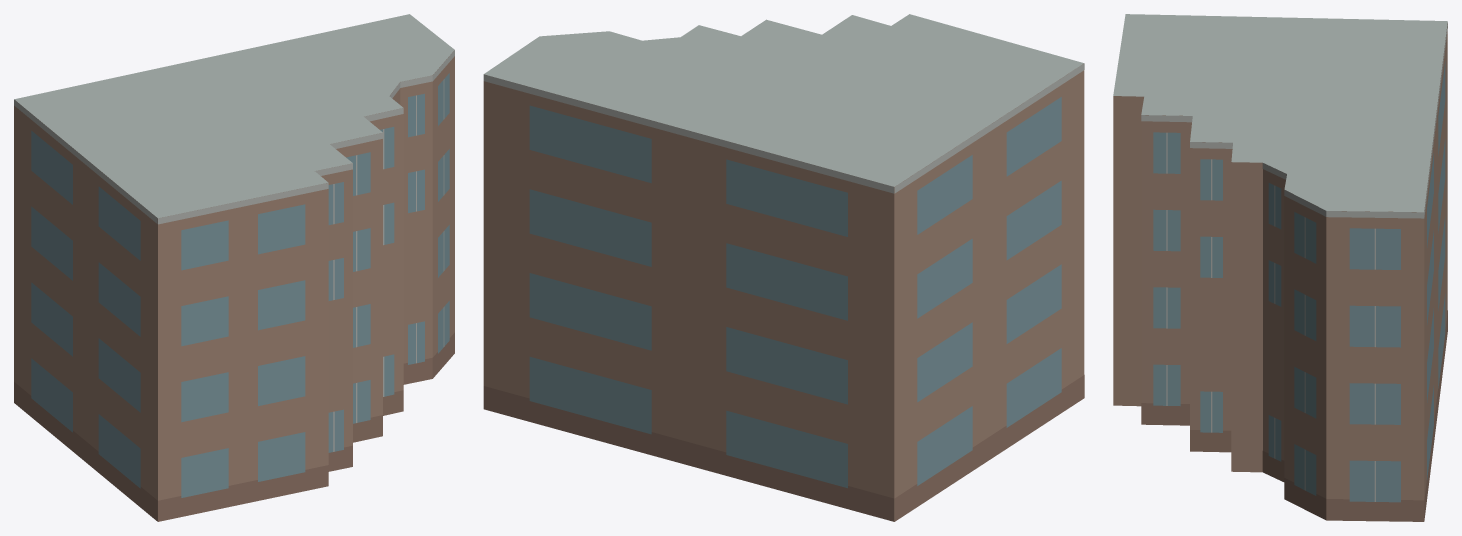
Rendered from survey-upis-32986767.glb.
3 views of the same model, side by side, from view 1: azimuth 30°, elevation 25°; view 2: azimuth 150°, elevation 25°; view 3: azimuth 270°, elevation 25° (orthographic). The views are drawn at different scales.
Visible parts, largest first — view 1: survey-upis-32986767.tmp; view 2: survey-upis-32986767.tmp; view 3: survey-upis-32986767.tmp.
Boxes of the visible parts, x1,y1,x2,y2 form: survey-upis-32986767.tmp: (14,14,454,521); survey-upis-32986767.tmp: (483,14,1084,521); survey-upis-32986767.tmp: (1113,14,1447,521).
Size of the model in its own units: 16.48 by 12 by 11.77.
